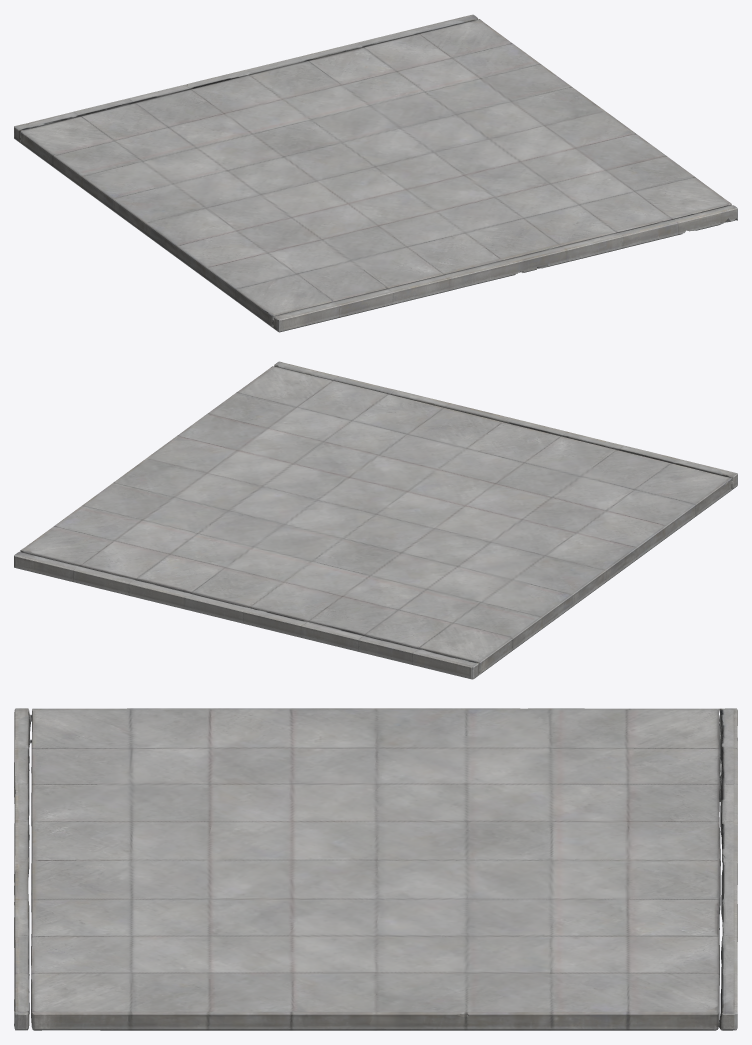
Rendered from floor.fbx.
3 views of the same model, one above another, from view 1: azimuth 30°, elevation 25°; view 2: azimuth 150°, elevation 25°; view 3: azimuth 270°, elevation 25° (orthographic). The views are drawn at different scales.
Visible parts, largest first — view 1: temp; view 2: temp; view 3: temp.
Boxes of the visible parts, bbox=[...] form: temp: bbox=[14, 14, 737, 332]; temp: bbox=[14, 361, 737, 679]; temp: bbox=[14, 708, 737, 1030].
Size of the model in its own units: 731 by 20 by 731.
1 material, 1 textured.
